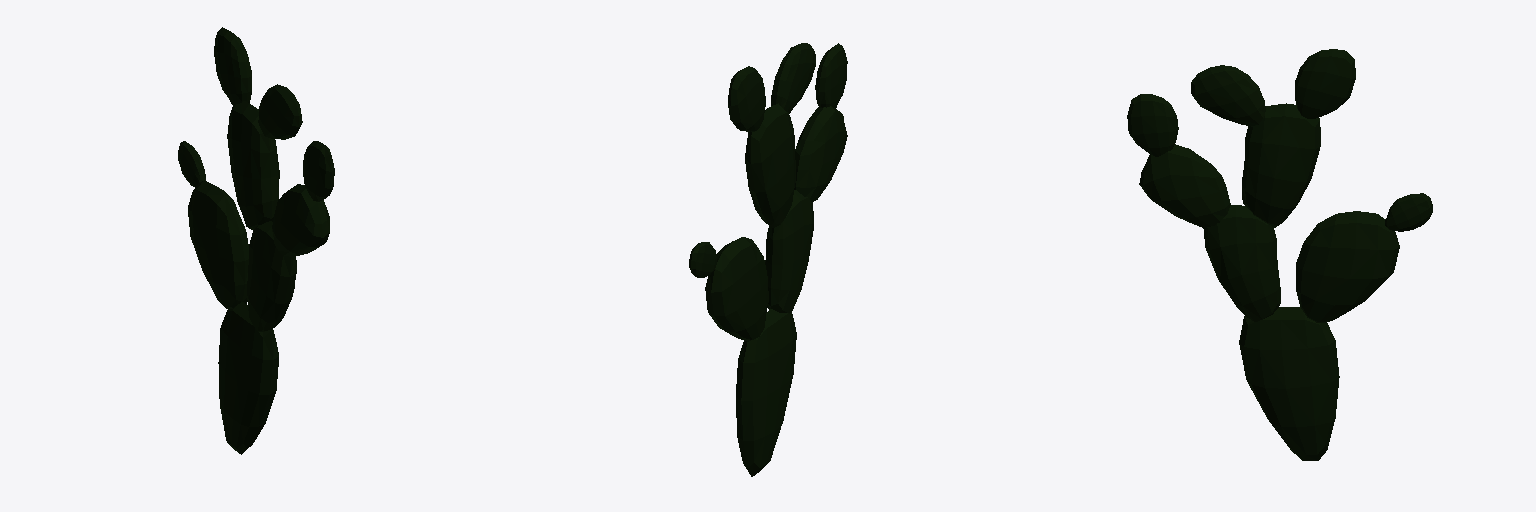
The model's file is Cactus_4.obj.
3 views of the same model, side by side, from view 1: azimuth 30°, elevation 25°; view 2: azimuth 150°, elevation 25°; view 3: azimuth 270°, elevation 25° (orthographic).
Visible parts, largest first — view 1: Cactus_4_Cube.006; view 2: Cactus_4_Cube.006; view 3: Cactus_4_Cube.006.
Part boxes in pixels (left/top/right/bottom): Cactus_4_Cube.006: left=178, top=27, right=334, bottom=454; Cactus_4_Cube.006: left=689, top=43, right=847, bottom=476; Cactus_4_Cube.006: left=1127, top=49, right=1432, bottom=460.
Size of the model in its own units: 0.11 by 1.37 by 0.919.